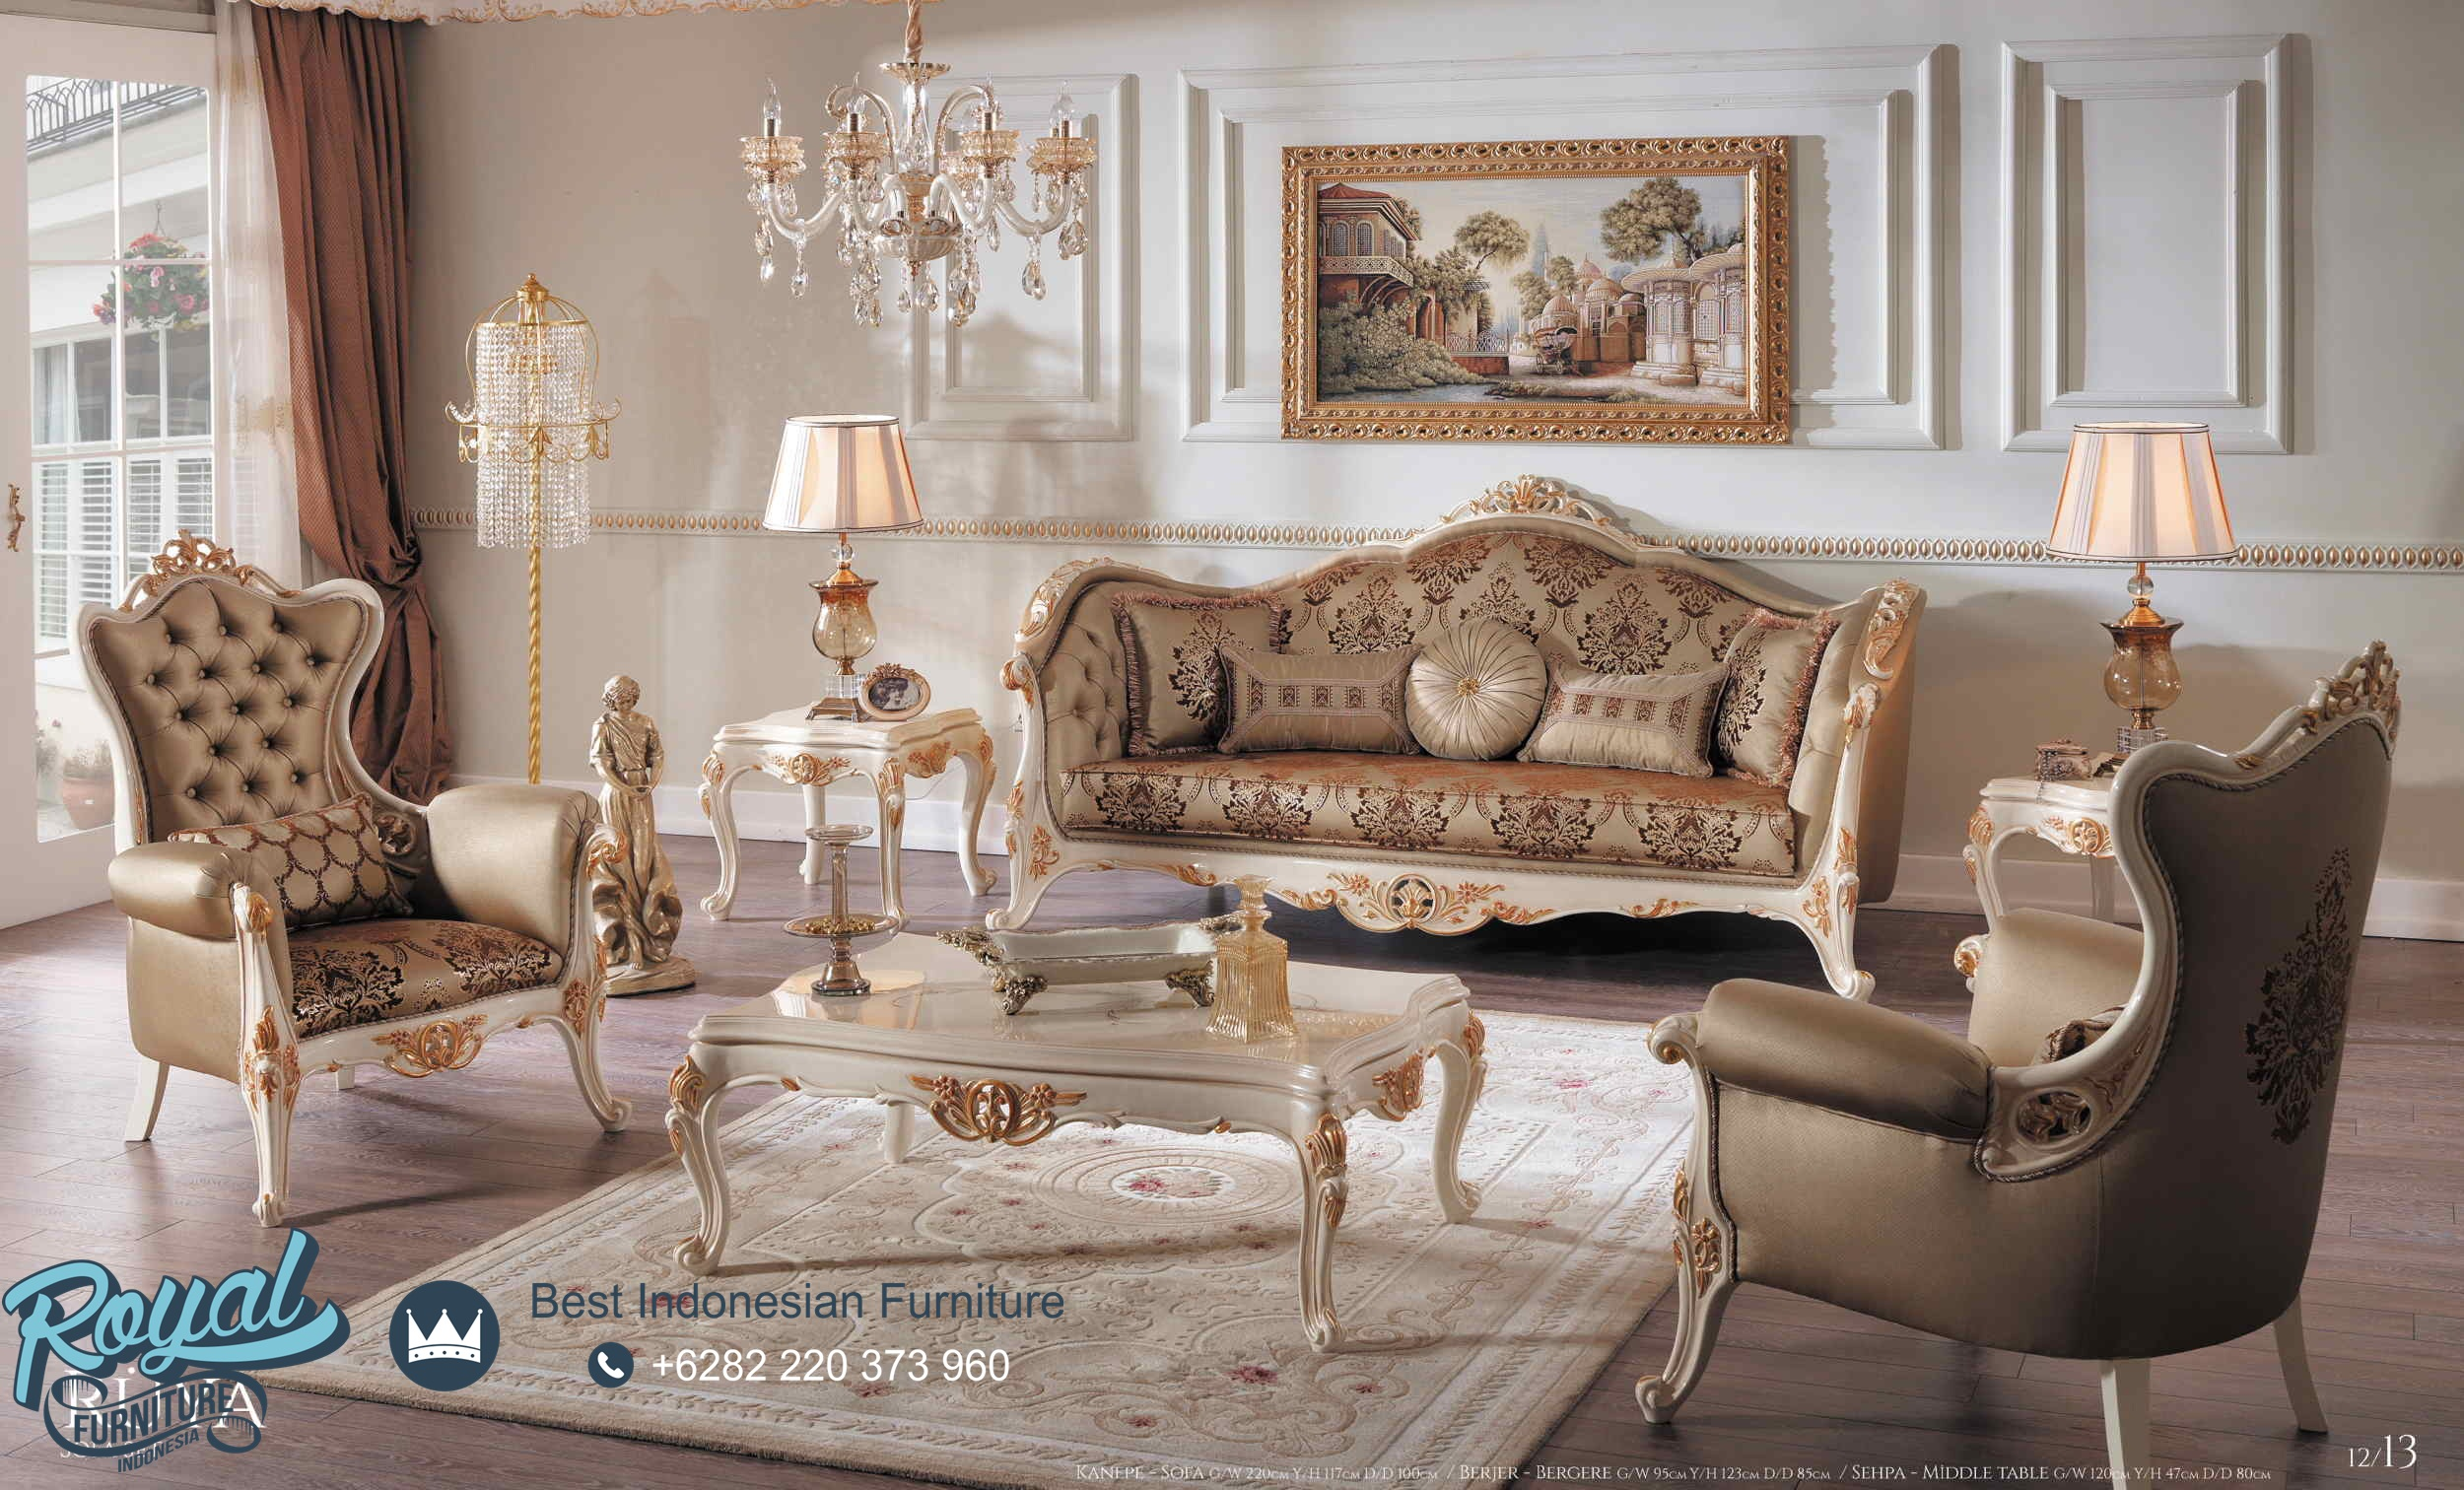Carving Chair: (1668, 697, 2464, 1469), (1035, 496, 1922, 1017), (63, 552, 641, 1205)
Carving Table: (688, 953, 1531, 1356)
